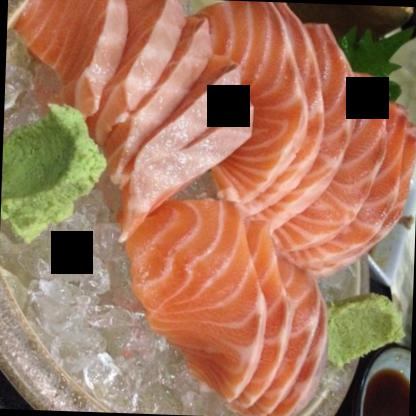salmon: (189, 0, 415, 273), (6, 0, 252, 242), (122, 186, 337, 415)
